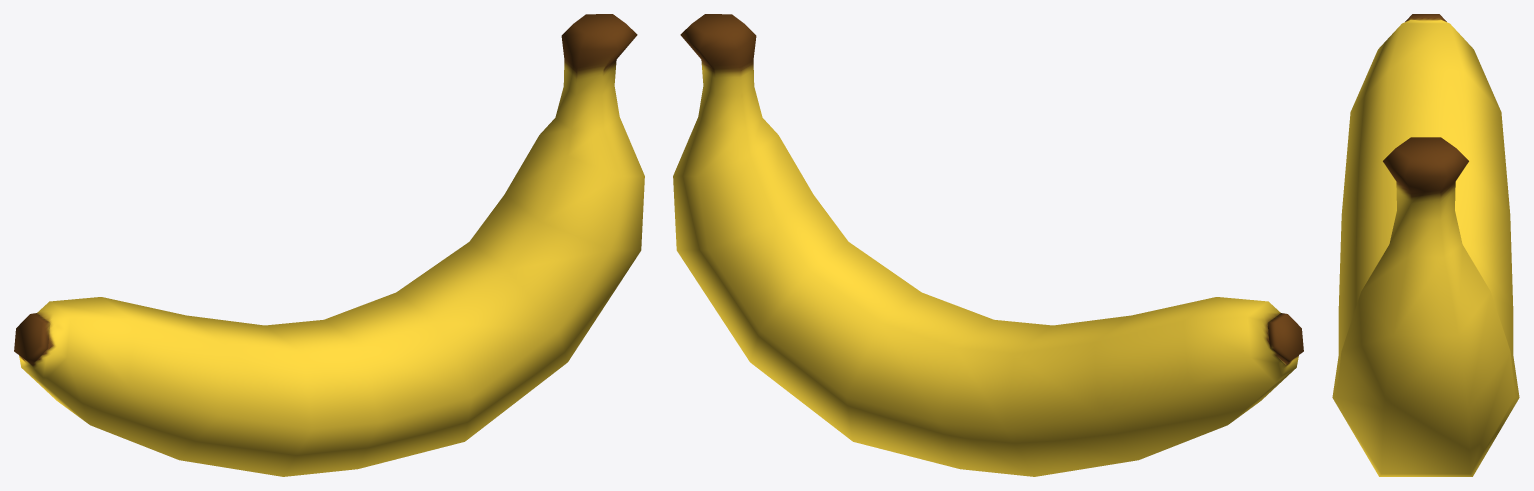
Rendered from banana.fbx.
The picture shows the model from 3 angles, left to right: view 1: azimuth 30°, elevation 25°; view 2: azimuth 150°, elevation 25°; view 3: azimuth 270°, elevation 25°; orthographic projection. The views are drawn at different scales.
Visible parts, largest first — view 1: Cylinder; view 2: Cylinder; view 3: Cylinder.
Boxes of the visible parts, <box> form: Cylinder: <box>14,14,644,476</box>; Cylinder: <box>673,14,1303,476</box>; Cylinder: <box>1332,14,1519,476</box>.
Bounding box in the file's own units: 23.35 × 13.44 × 5.45.
